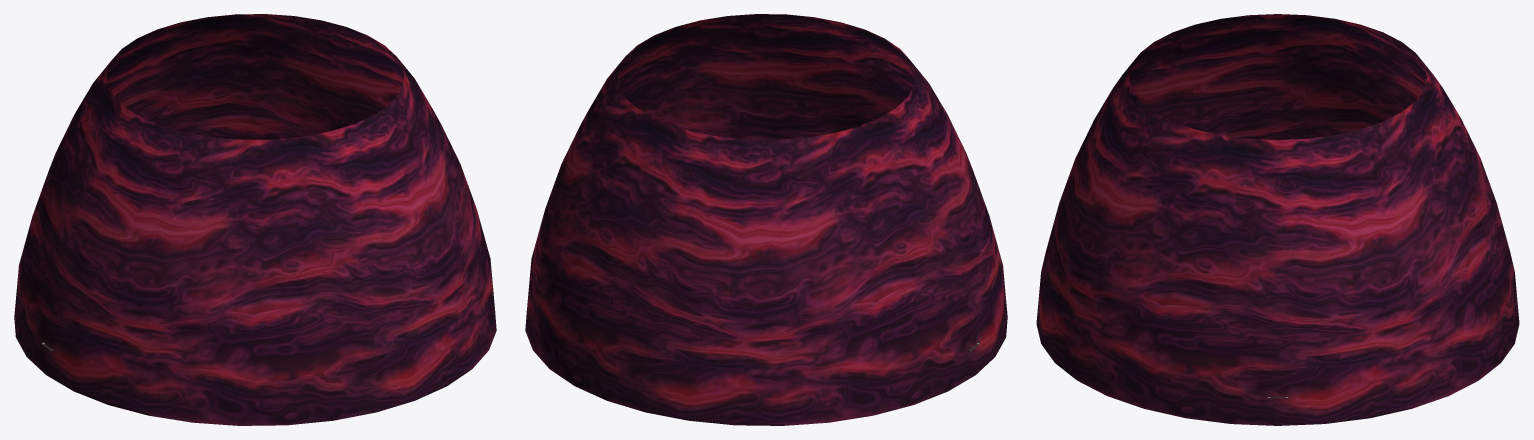
The model's file is WpnCaptainFinalBg.obj.
3 renders of one model, left to right at view 1: azimuth 30°, elevation 25°; view 2: azimuth 150°, elevation 25°; view 3: azimuth 270°, elevation 25°, orthographic.
Parts seen in each view (by area): view 1: polygon7; view 2: polygon7; view 3: polygon7.
Part boxes in pixels (x1,y1,x2,y2): polygon7: [14, 14, 496, 425]; polygon7: [525, 14, 1007, 425]; polygon7: [1036, 14, 1519, 425].
Bounding box in the file's own units: 6728 × 3795 × 6728.
8 materials, 8 textured.
